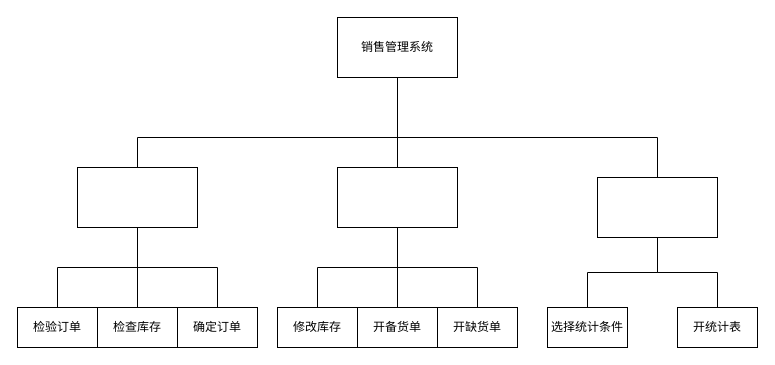
Some shapes in this 775 by 365 pixel diagram are drawn without their labels. Here are the shapes that lost their labels. From the top down, the centre of each, then its label:
the point at 137,197: 处理订单
the point at 397,197: 库存管理
the point at 657,207: 销售统计
